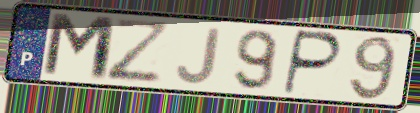9: (347, 34, 400, 102), (233, 28, 280, 92)
J: (174, 26, 223, 86)
M: (39, 11, 119, 84)
P: (279, 28, 345, 98)
Z: (104, 16, 175, 84)
